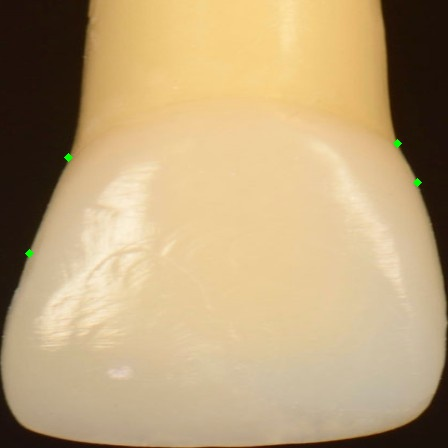coin_1: (68, 157, 88, 177)
coin_2: (29, 253, 49, 273)
coin_3: (397, 143, 417, 163)
coin_4: (417, 182, 437, 202)
